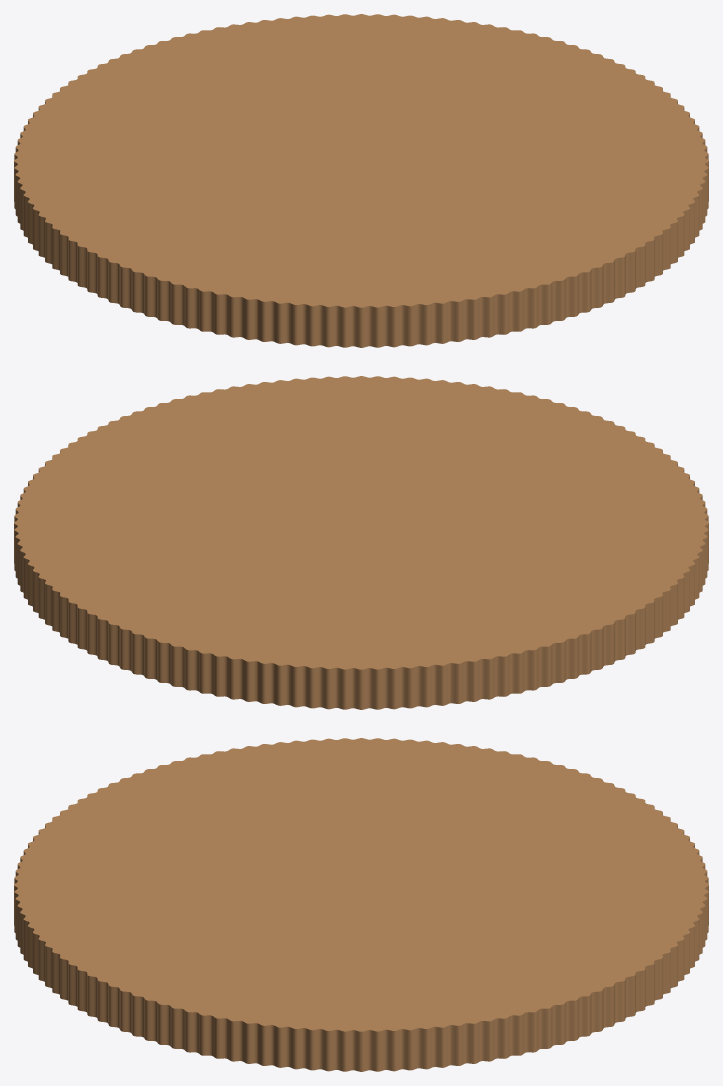
The model's file is model_UNFINISHED.glb.
3 renders of one model, top to bottom at view 1: azimuth 30°, elevation 25°; view 2: azimuth 150°, elevation 25°; view 3: azimuth 270°, elevation 25°, orthographic.
Parts seen in each view (by area): view 1: GIZA10_1951_REEDED; view 2: GIZA10_1951_REEDED; view 3: GIZA10_1951_REEDED.
Part boxes in pixels (bbox=[...]): GIZA10_1951_REEDED: bbox=[14, 14, 708, 347]; GIZA10_1951_REEDED: bbox=[14, 376, 708, 709]; GIZA10_1951_REEDED: bbox=[14, 738, 708, 1071].
Bounding box in the file's own units: 0.0235 × 0.0015 × 0.0235.
